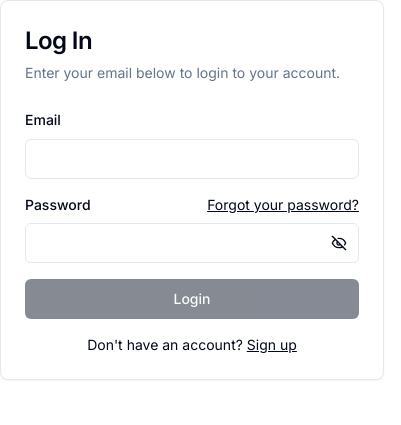
it: Login Form › displays a message if the email is invalid
The image size is (401, 425).
Type "invalid-email" into the field labelled "Email" at point(192, 159), box [25,139,359,179]
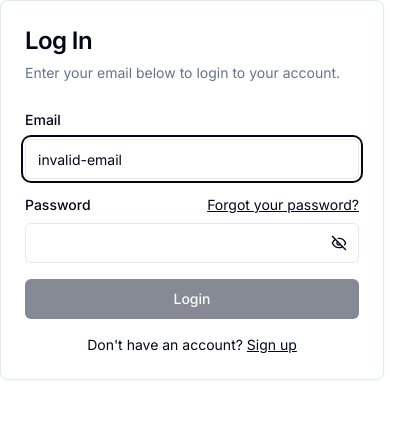
Press Tab
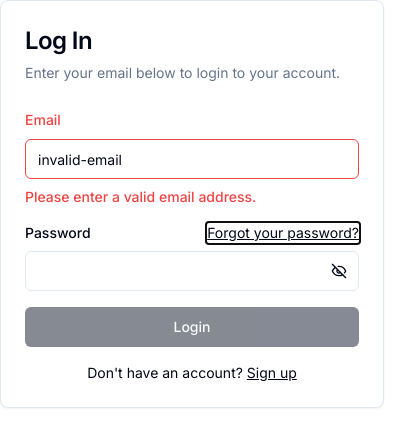
Result: the text "Please enter a valid email address." is shown at [25,188,256,205]
